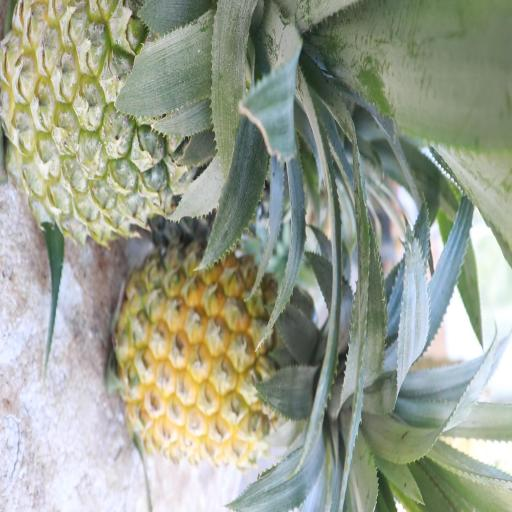------------------------------: (3, 0, 293, 246)
Pineapple - v8 v1: (117, 248, 366, 472)
